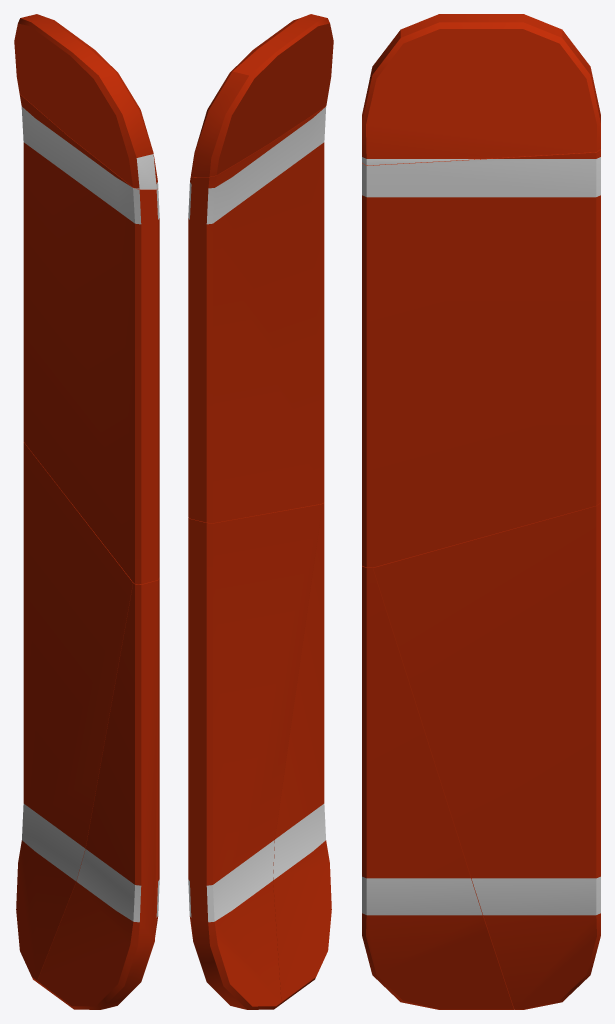
File: M_SurfBoard_Fracture.fbx
3 views of the same model, side by side, from view 1: azimuth 30°, elevation 25°; view 2: azimuth 150°, elevation 25°; view 3: azimuth 270°, elevation 25° (orthographic). The views are drawn at different scales.
Visible parts, largest first — view 1: snowboard_cell.002, snowboard_cell.003, snowboard_cell, snowboard_cell.001; view 2: snowboard_cell.002, snowboard_cell.003, snowboard_cell, snowboard_cell.001; view 3: snowboard_cell.002, snowboard_cell.003, snowboard_cell, snowboard_cell.001.
Part boxes in pixels (<box>): snowboard_cell.002: <box>19,94,159,584</box>; snowboard_cell.003: <box>16,442,133,982</box>; snowboard_cell: <box>37,578,159,1009</box>; snowboard_cell.001: <box>14,14,158,189</box>; snowboard_cell.002: <box>188,106,326,523</box>; snowboard_cell.003: <box>188,504,322,1009</box>; snowboard_cell: <box>273,503,331,1005</box>; snowboard_cell.001: <box>191,14,333,177</box>; snowboard_cell.002: <box>362,149,600,567</box>; snowboard_cell.003: <box>373,503,600,1009</box>; snowboard_cell: <box>362,566,514,1009</box>; snowboard_cell.001: <box>362,14,600,165</box>.
Size of the model in its own units: 0.2753 by 4.67 by 1.03.
